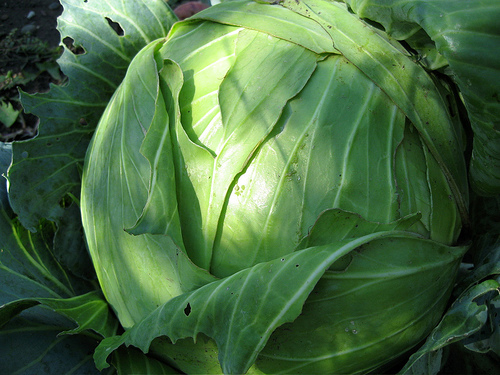cabbage: (83, 9, 469, 374)
